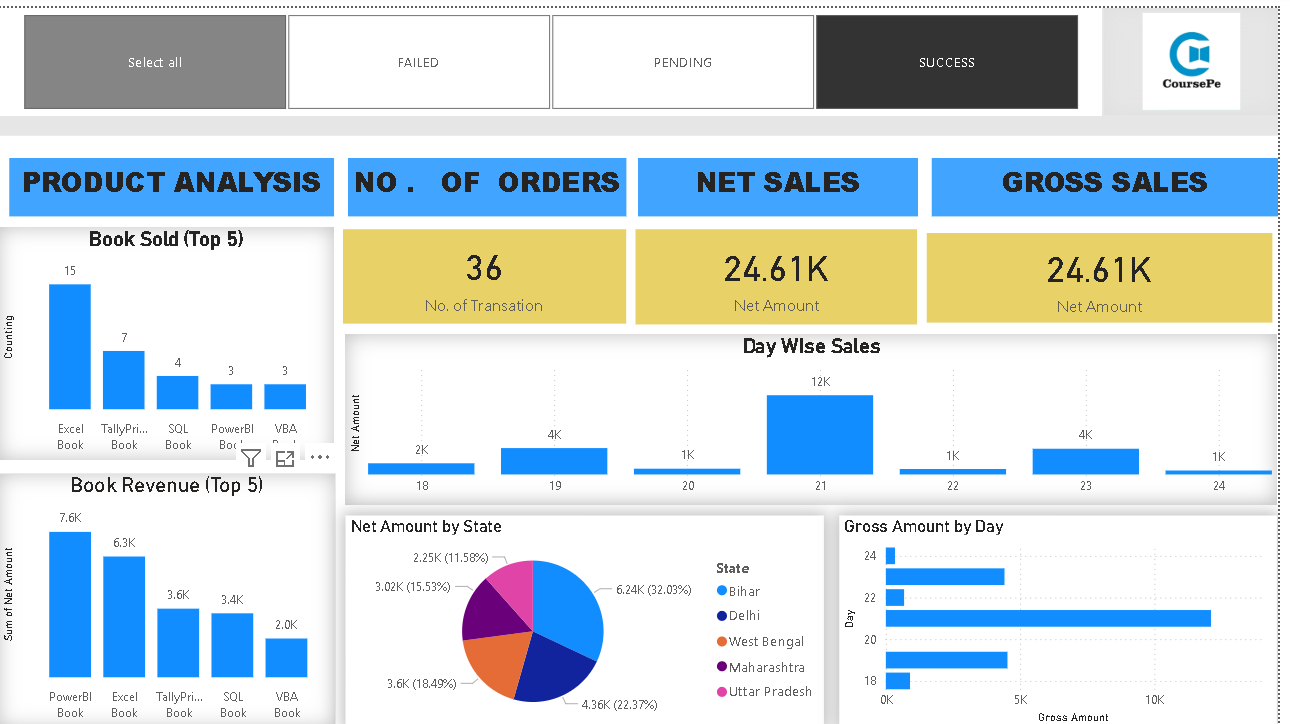

Layout of this report page (visuals, bound fields, positions):
{"tool":"powerbi","page":{"name":"Page 1","canvas":[1280,720],"ordinal":0},"visuals":[{"type":"shape","box":[0,0,1280.3,127.7],"z":0},{"type":"image","box":[1106.1,0,174.2,107.4],"z":1000},{"type":"textbox","box":[11.6,149.5,325.2,58.1],"z":2000},{"type":"textbox","box":[349.8,149.5,278.7,58.1],"z":3000},{"type":"textbox","box":[640.1,149.5,280.2,58.1],"z":4000},{"type":"textbox","box":[933.4,149.5,346.9,58.1],"z":5000},{"type":"clusteredColumnChart","title":"Book  Sold  (Top 5)","fields":{"Category":["7 Days Books Sales Report File (2).Books"],"Y":["CountNonNull(7 Days Books Sales Report File (2).Books)"]},"box":[0,219.2,336.2,233.7],"z":6000},{"type":"slicer","fields":{"Values":["7 Days Books Sales Report File (2).Payment Status"]},"box":[0,0,1104.2,107.6],"z":7000},{"type":"clusteredColumnChart","title":"Book    Revenue  (Top 5)","fields":{"Category":["7 Days Books Sales Report File (2).Books"],"Y":["Sum(7 Days Books Sales Report File (2).Net Amount)"]},"box":[0,464.5,337.6,255.5],"z":8000},{"type":"clusteredColumnChart","title":"Day WIse  Sales","fields":{"Category":["7 Days Books Sales Report File (2).Order Date.Variation.Date Hierarchy.Day"],"Y":["Sum(7 Days Books Sales Report File (2).Net Amount)"]},"box":[346.9,326.6,931.6,170.4],"z":9000},{"type":"card","fields":{"Values":["CountNonNull(7 Days Books Sales Report File (2).OrderId)"]},"box":[345.5,220.6,283.1,94.4],"z":10000},{"type":"card","fields":{"Values":["Sum(7 Days Books Sales Report File (2).Net Amount)"]},"box":[637.2,221.5,281.6,94.9],"z":11000},{"type":"card","fields":{"Values":["Sum(7 Days Books Sales Report File (2).Net Amount)"]},"box":[929,225,345.5,90],"z":12000},{"type":"pieChart","fields":{"Category":["7 Days Books Sales Report File (2).State"],"Y":["Sum(7 Days Books Sales Report File (2).Net Amount)"]},"box":[347.3,507.5,478.1,212.8],"z":13000},{"type":"clusteredBarChart","fields":{"Category":["7 Days Books Sales Report File (2).Order Date.Variation.Date Hierarchy.Day"],"Y":["Sum(7 Days Books Sales Report File (2).Gross Amount)"]},"box":[841.3,507.5,437.8,212.8],"z":14000}]}

Visuals, with their boxes in screenshot pixels (x1, y1, x2, y2), scaled from the page's 1280x720 canvas onto the 1290x724 screenshot:
shape: <box>0,0,1289,128</box>
image: <box>1115,0,1289,108</box>
textbox: <box>12,150,339,209</box>
textbox: <box>353,150,633,209</box>
textbox: <box>645,150,927,209</box>
textbox: <box>941,150,1289,209</box>
"Book  Sold  (Top 5)" clusteredColumnChart: <box>0,220,339,455</box>
slicer - 7 Days Books Sales Report File (2).Payment Status: <box>0,0,1113,108</box>
"Book    Revenue  (Top 5)" clusteredColumnChart: <box>0,467,340,723</box>
"Day WIse  Sales" clusteredColumnChart: <box>350,328,1288,500</box>
card - CountNonNull(7 Days Books Sales Report File (2).OrderId): <box>348,222,634,317</box>
card - Sum(7 Days Books Sales Report File (2).Net Amount): <box>642,223,926,318</box>
card - Sum(7 Days Books Sales Report File (2).Net Amount): <box>936,226,1284,317</box>
pieChart - 7 Days Books Sales Report File (2).State x Sum(7 Days Books Sales Report File (2).Net Amount): <box>350,510,832,723</box>
clusteredBarChart - 7 Days Books Sales Report File (2).Order Date.Variation.Date Hierarchy.Day x Sum(7 Days Books Sales Report File (2).Gross Amount): <box>848,510,1289,723</box>
